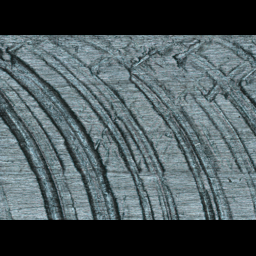d: (2, 35, 256, 218)
